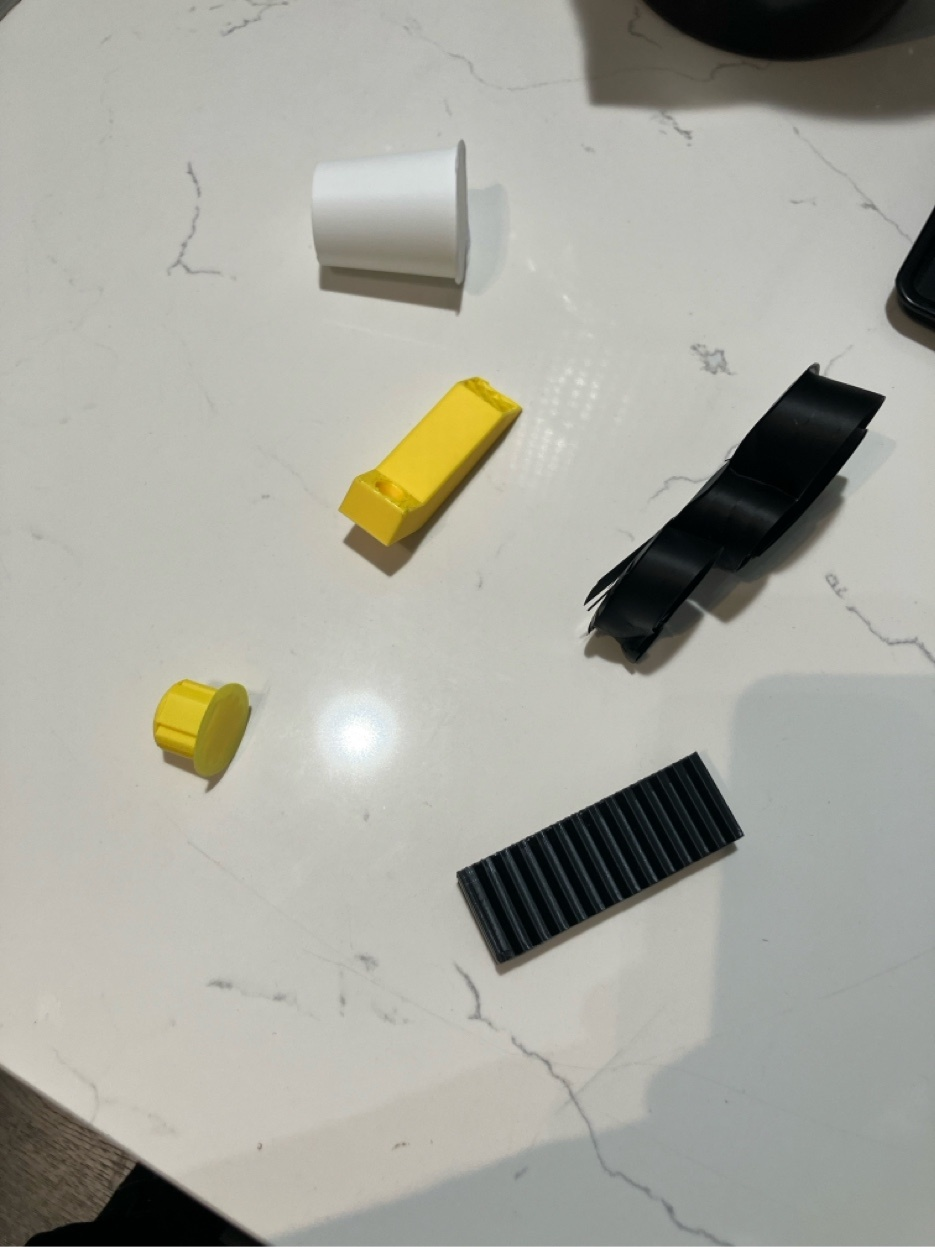bracket: (339, 377, 522, 572)
cup: (311, 138, 468, 285)
holder: (586, 365, 884, 664)
knob: (153, 679, 251, 784)
slotted_block: (457, 754, 742, 964)
